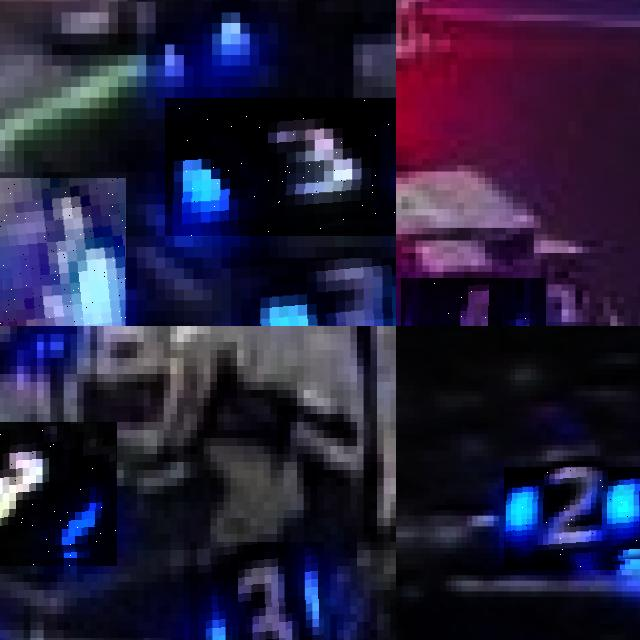B2: (504, 467, 640, 570)
B3: (164, 97, 396, 236), (0, 177, 127, 326), (0, 422, 116, 566), (190, 542, 323, 640), (230, 257, 396, 326)
B4: (401, 278, 547, 326)
